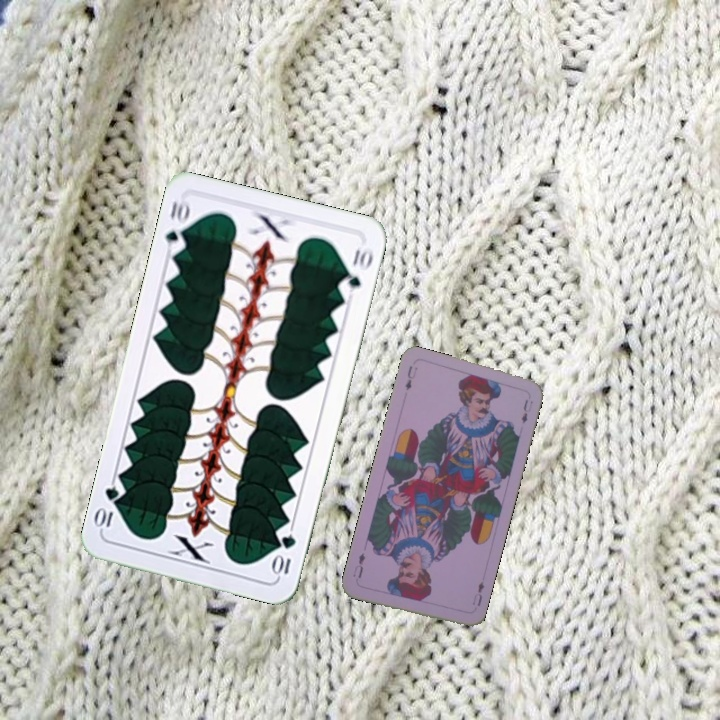EU: (469, 577, 487, 609), (401, 361, 419, 393)
G10: (161, 196, 193, 256), (270, 530, 299, 580)
